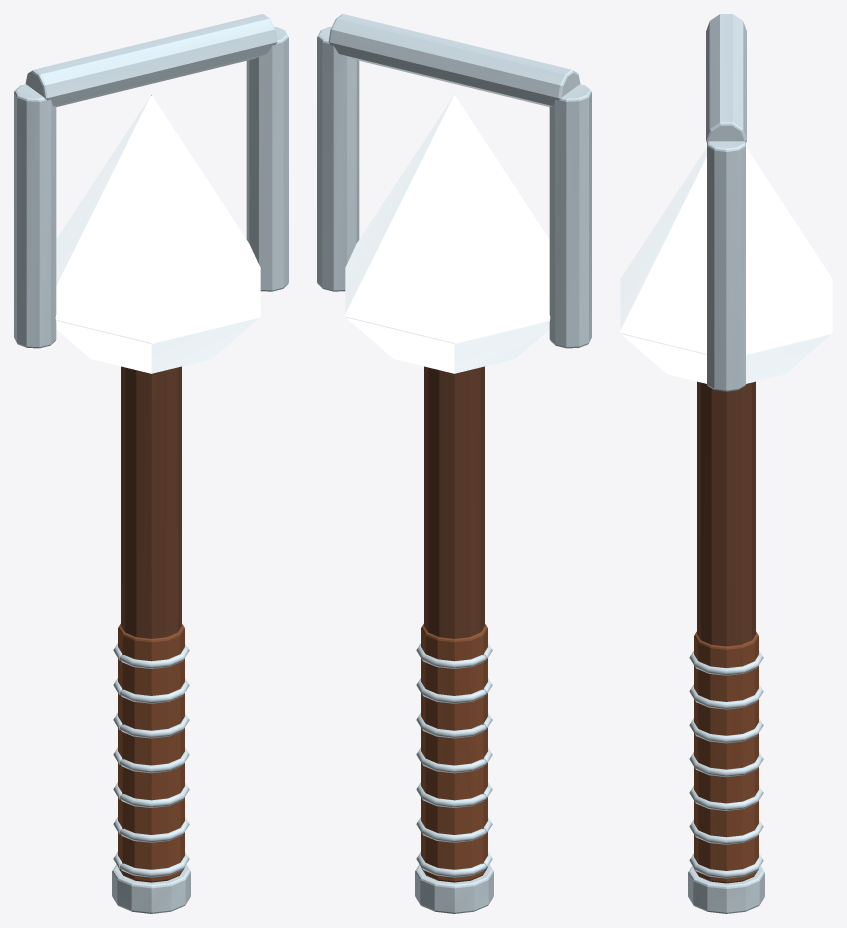
Rendered from item_050.glb.
The picture shows the model from 3 angles, left to right: view 1: azimuth 30°, elevation 25°; view 2: azimuth 150°, elevation 25°; view 3: azimuth 270°, elevation 25°; orthographic projection. The views are drawn at different scales.
Parts seen in each view (by area): view 1: Item_050_glacier_pendulum; view 2: Item_050_glacier_pendulum; view 3: Item_050_glacier_pendulum.
Boxes of the visible parts, x1,y1,x2,y2 form: Item_050_glacier_pendulum: (14, 14, 288, 913); Item_050_glacier_pendulum: (317, 14, 591, 913); Item_050_glacier_pendulum: (620, 14, 832, 913).
Size of the model in its own units: 0.44 by 1.33 by 0.3088.
